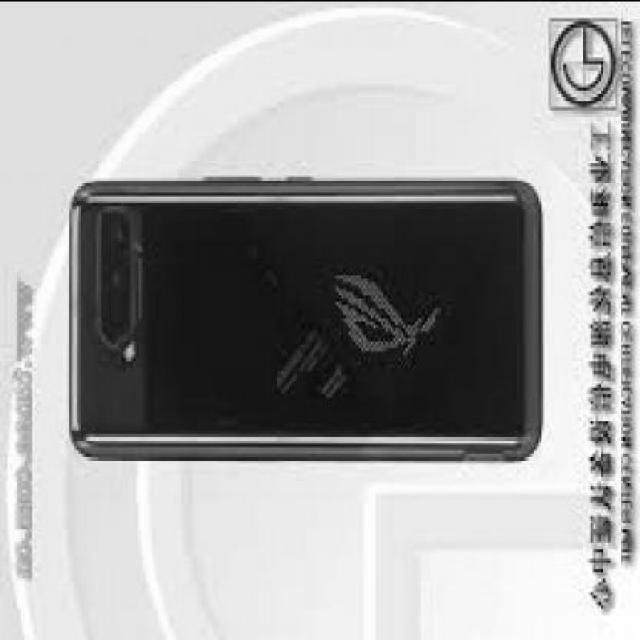fake: (67, 176, 541, 462)
